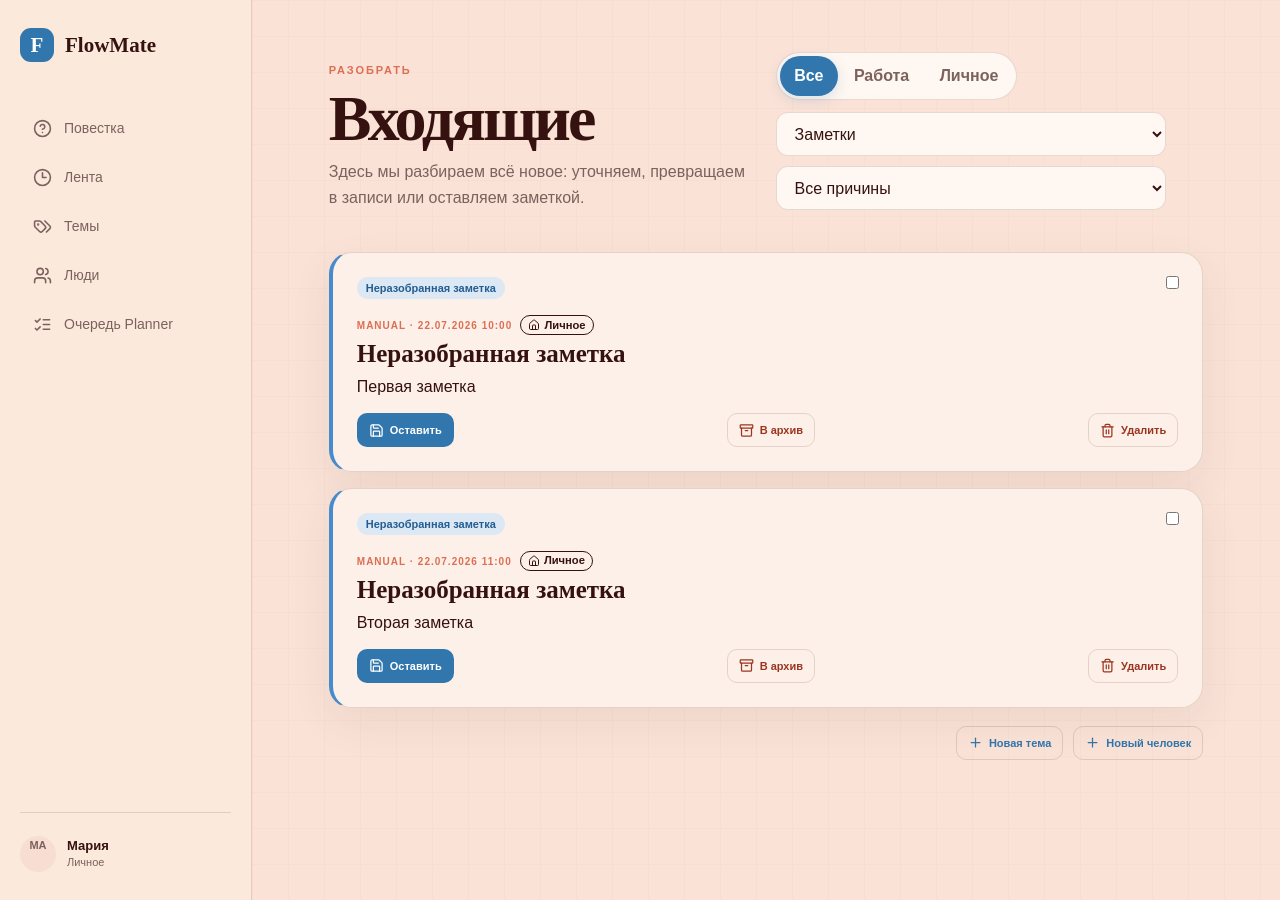
Inbox notes and bulk actions › sends atomic bulk note deletion and displays a safe conflict
Check: the text "Первая заметка" is shown, box [357,378,476,395]
Click the 1st checkbox: (1173, 283) [1166,276,1179,289]
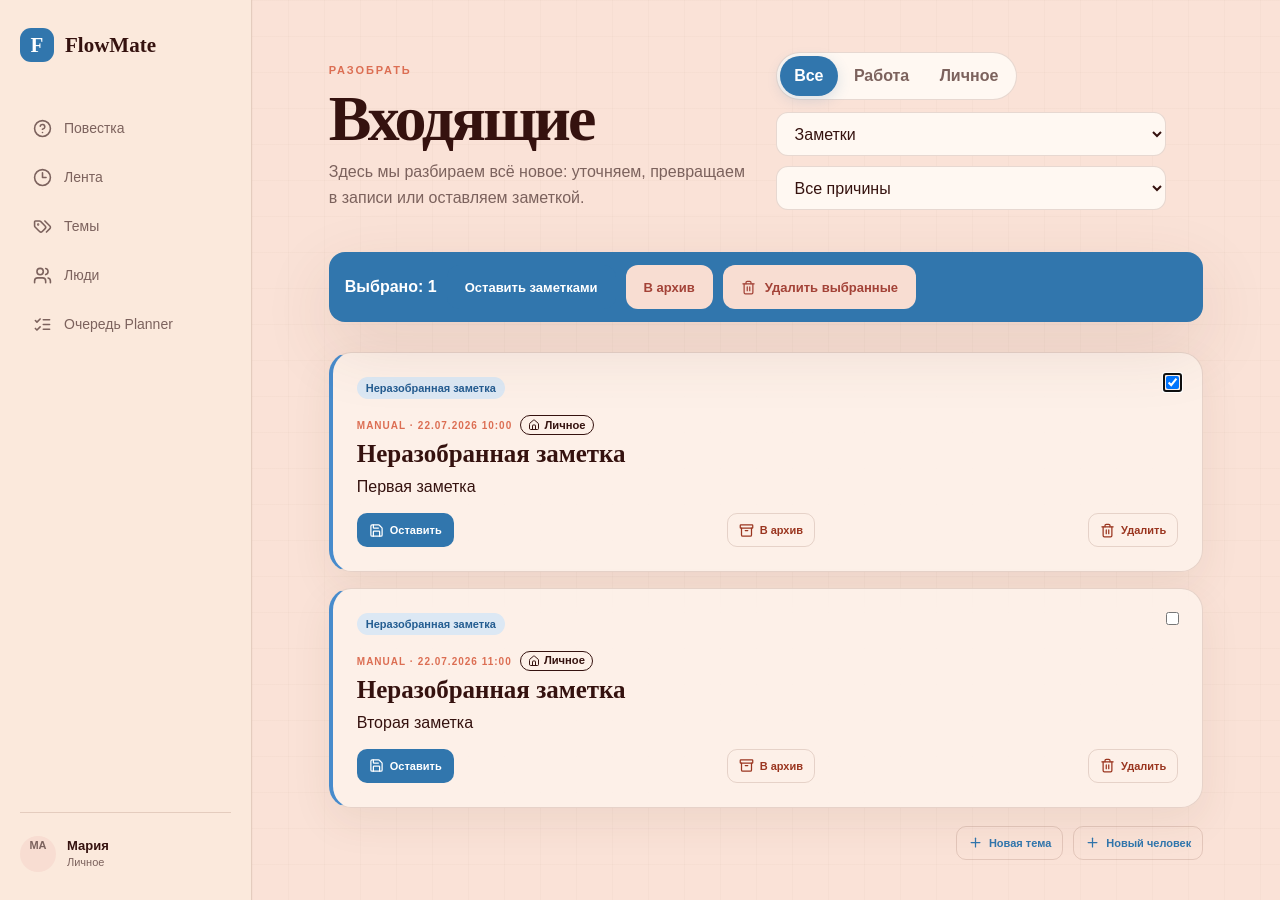
Click the 2nd checkbox: (1173, 619) [1166,612,1179,625]
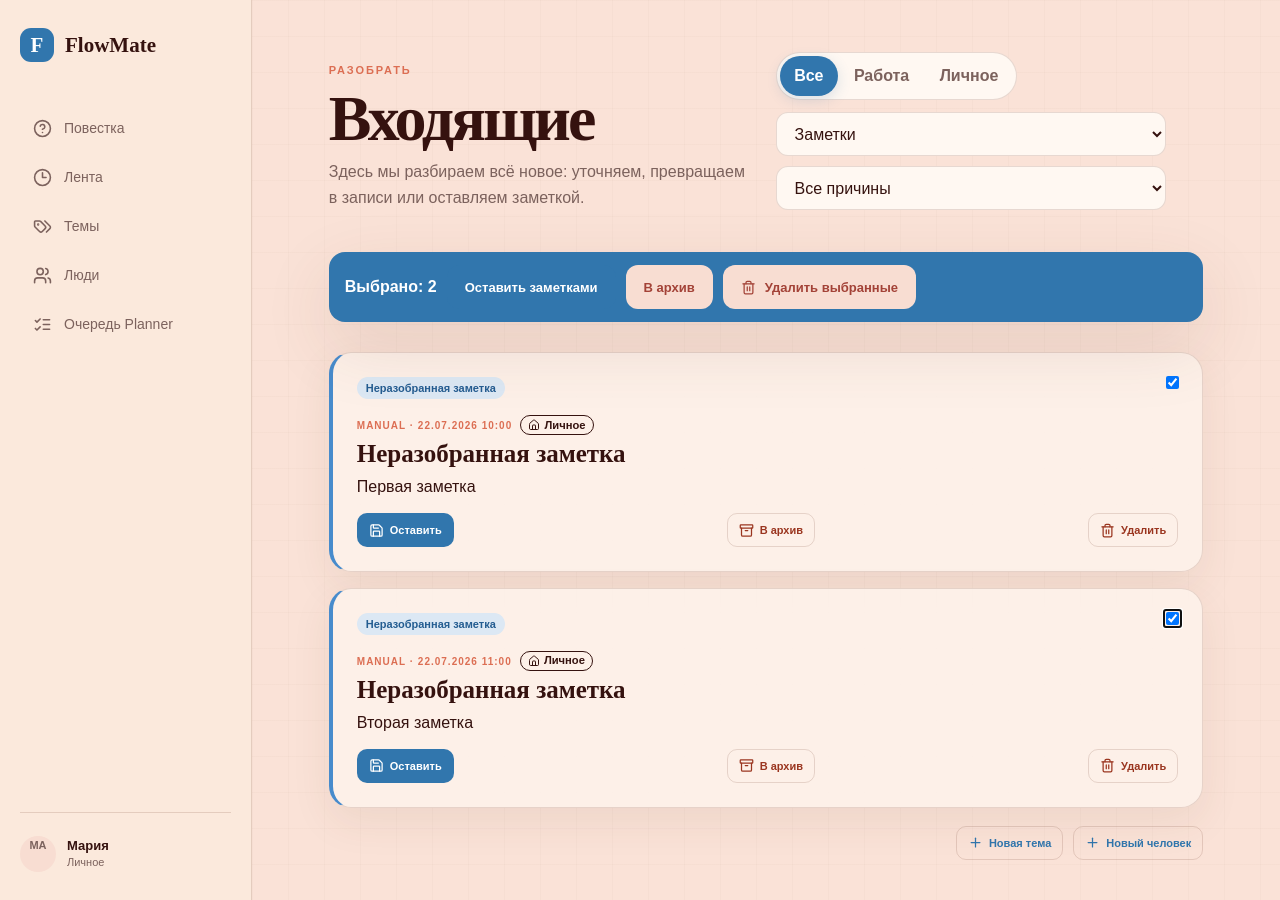
Click the button "Удалить выбранные": (819, 287) [723,265,916,309]
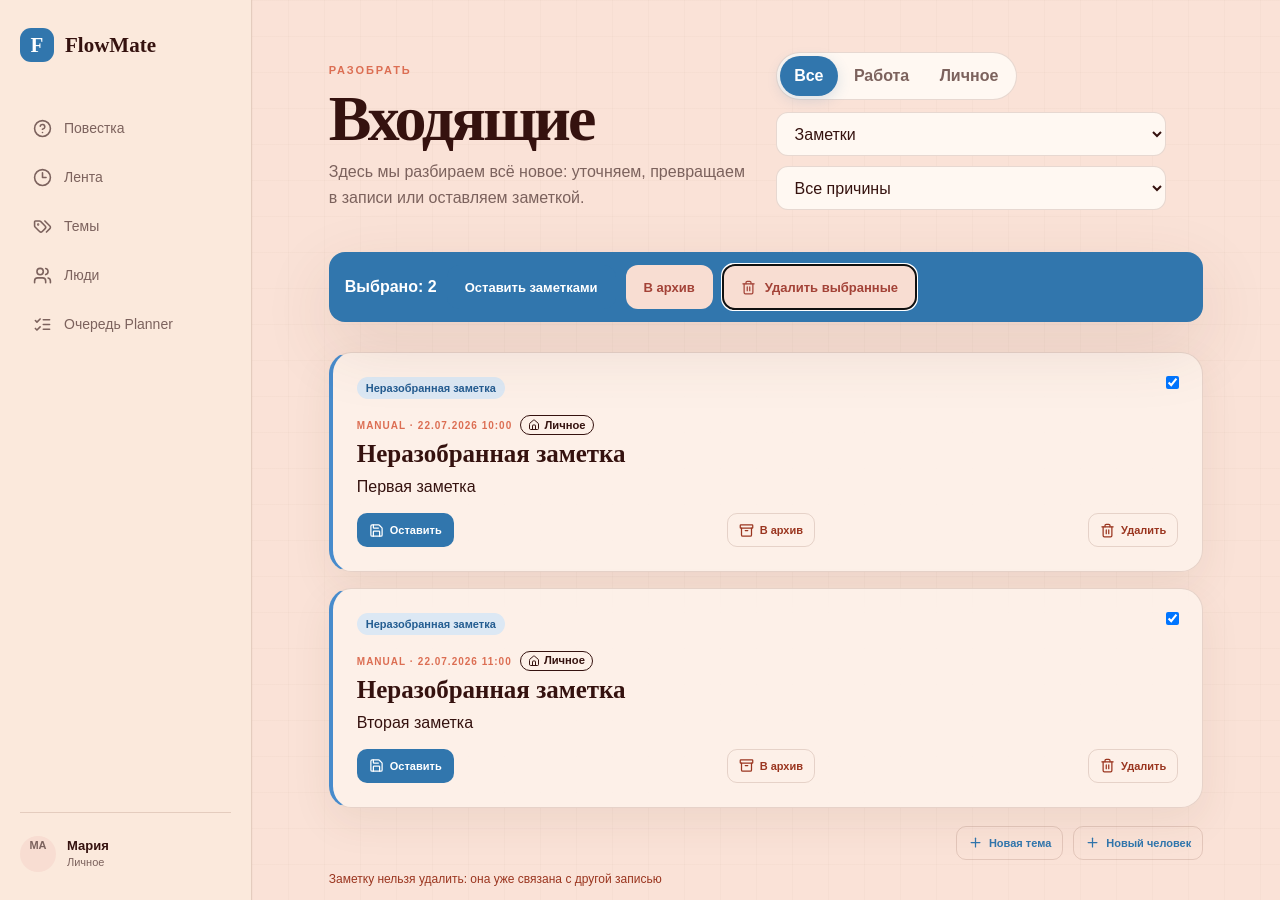
Check: the text "Заметку нельзя удалить: она уже связана с другой записью" is shown, box [329,872,662,886]
